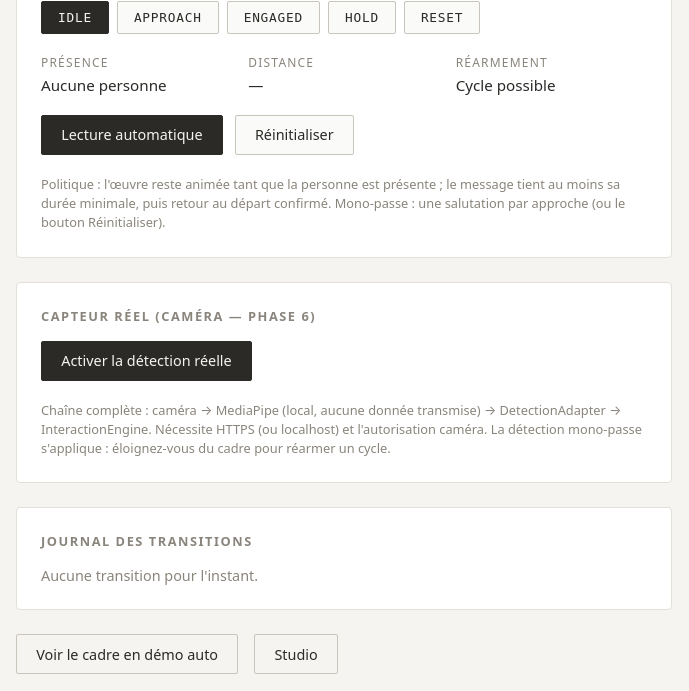
Scenario: PreviewComponent › capteur réel : échec caméra propre — statut affiché, aucun crash (TEST-03, UI)
The width and height of the screenshot is (689, 691).
(page scrolled)
Click the button "Activer la détection réelle". click: (146, 361)
box: [41,340,252,381]
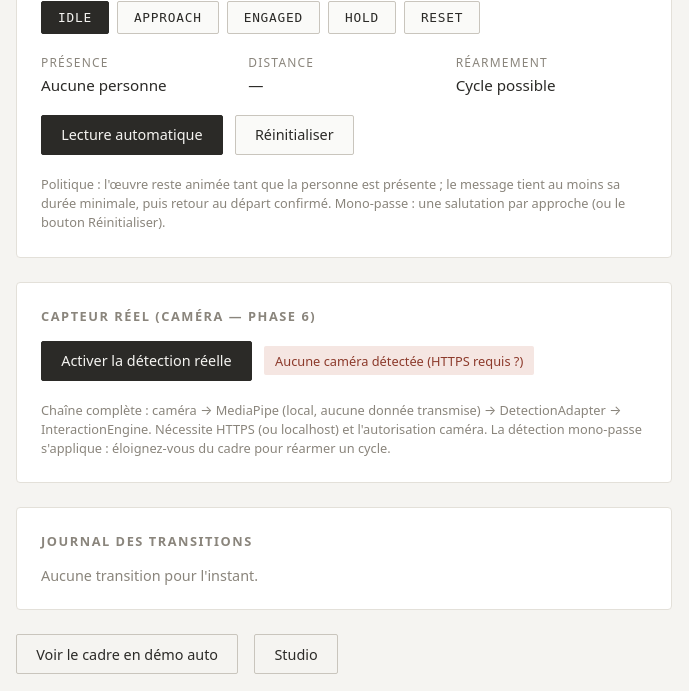
Expected: the button "IDLE" is shown, [41,1,109,34]
Now the text "Aucune caméra détectée (HTTPS requis ?)" is shown, box [264,346,534,375]
